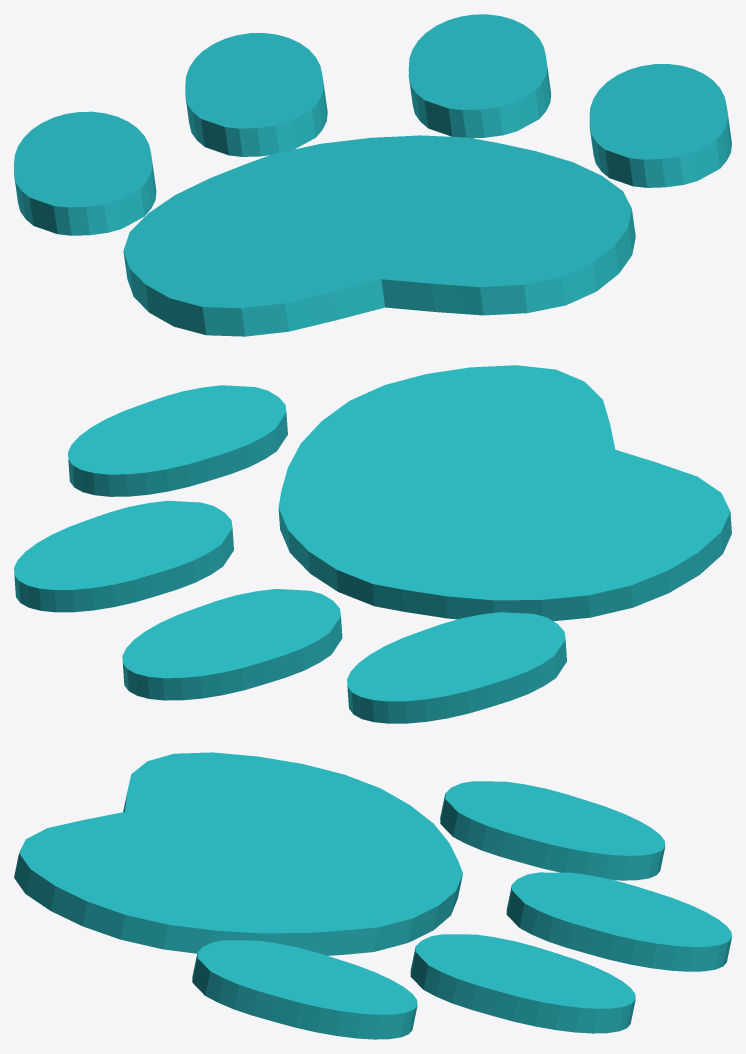
The model's file is R_paw2.glb.
The picture shows the model from 3 angles, top to bottom: view 1: azimuth 30°, elevation 25°; view 2: azimuth 150°, elevation 25°; view 3: azimuth 270°, elevation 25°; orthographic projection. The views are drawn at different scales.
Parts seen in each view (by area): view 1: Paw Main.002; view 2: Paw Main.002; view 3: Paw Main.002.
Boxes of the visible parts, left/top/right/bottom form: Paw Main.002: left=14, top=14, right=731, bottom=336; Paw Main.002: left=14, top=365, right=731, bottom=723; Paw Main.002: left=14, top=752, right=731, bottom=1039.
Bounding box in the file's own units: 0.4424 × 0.0611 × 0.4889.
